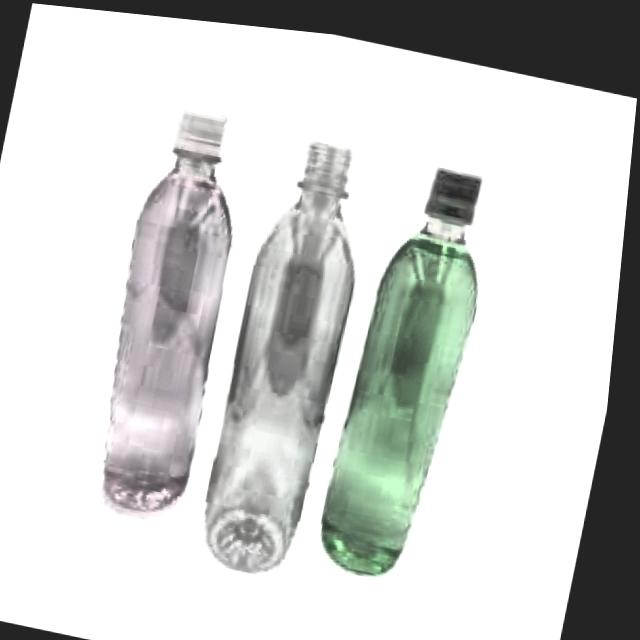Bottles: (191, 99, 399, 591), (316, 121, 512, 602), (79, 82, 281, 548)
